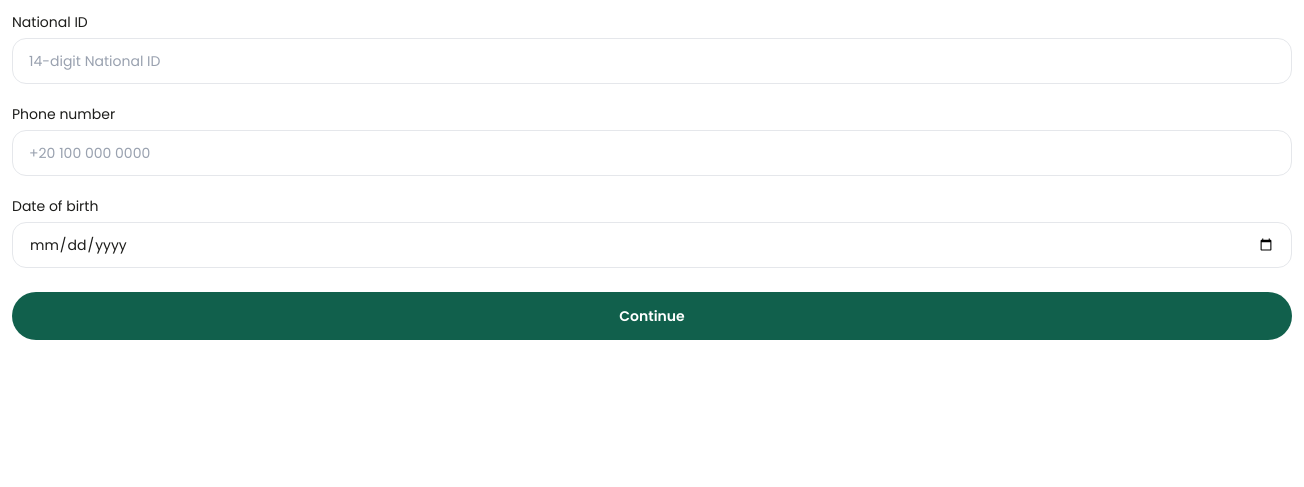
Test case: PatientForgotPasswordForm › shows an invalid-answer error on a 401 at step 2
Step 1. Type "12345678901234" into the field labelled "National ID" → (652, 61), box [12,38,1292,84]
Step 2. Type "01012345678" into the field labelled "Phone number" → (652, 153), box [12,130,1292,176]
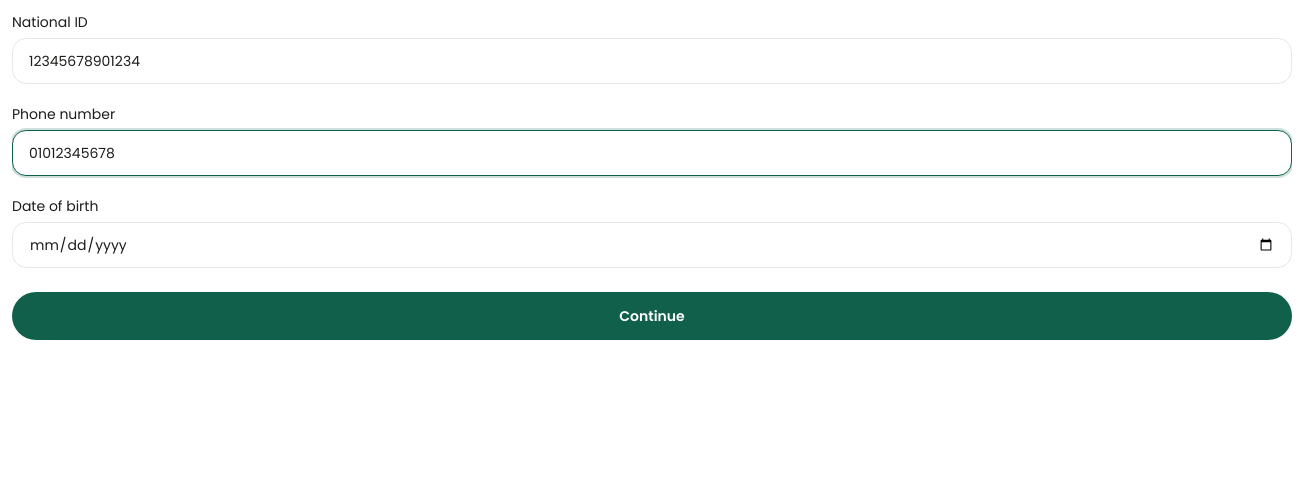
Step 3. Type "1990-01-01" into the date field labelled "Date of birth" → (652, 245), box [12,222,1292,268]
Step 4. Click the button "Continue" → (652, 316), box [12,292,1292,340]
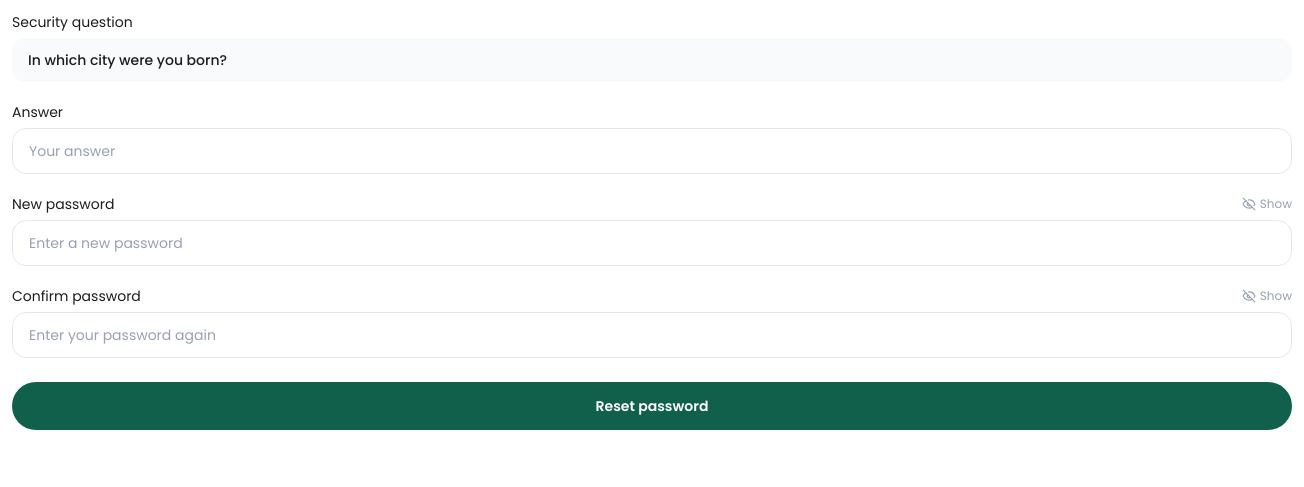
Check: the button "Reset password" is shown, box [12,382,1292,430]
Step 5. Type "Wrong" into the field labelled "Answer" → (652, 151), box [12,128,1292,174]
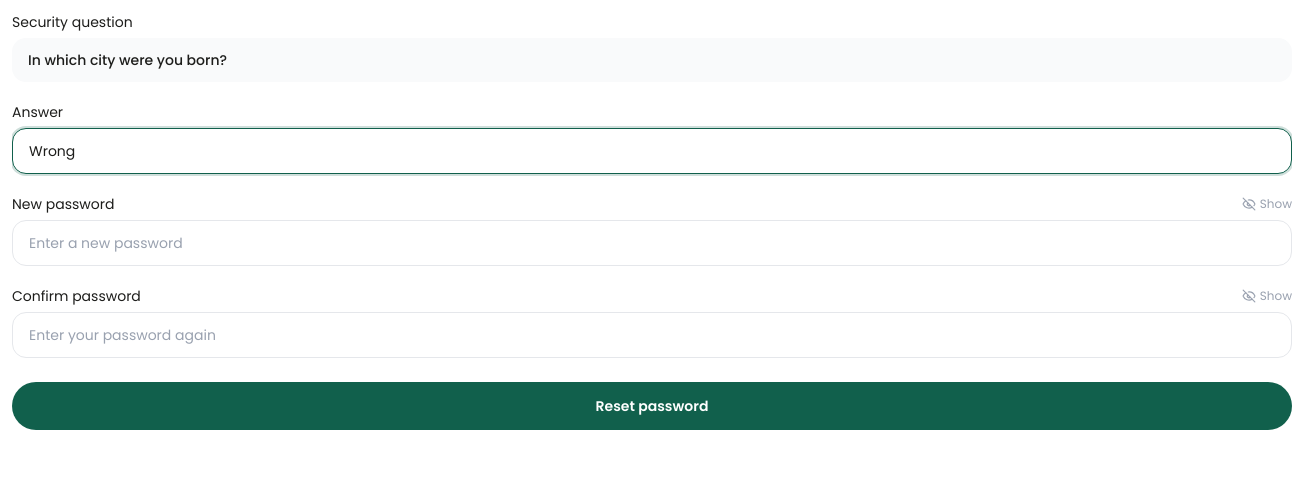
Step 6. Type "Abcdef1!" into the password field labelled "New password" → (652, 243), box [12,220,1292,266]
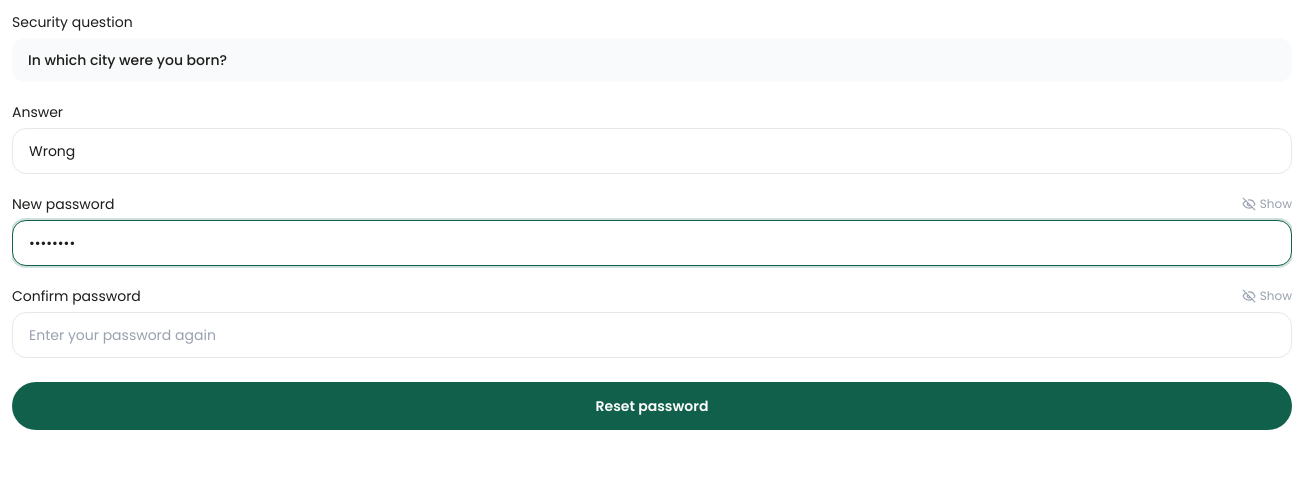
Step 7. Type "Abcdef1!" into the password field labelled "Confirm password" → (652, 335), box [12,312,1292,358]
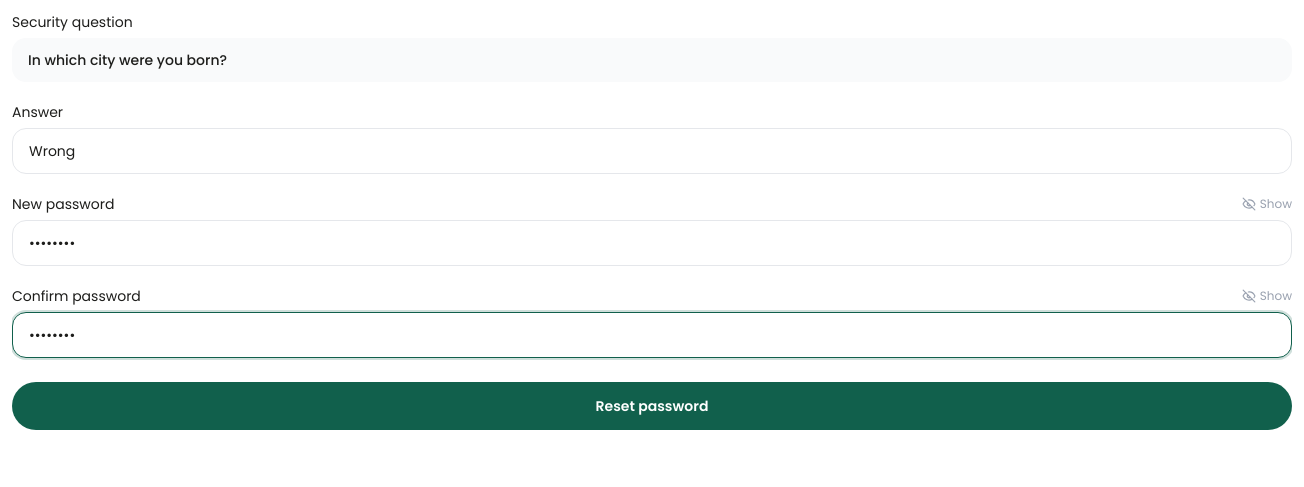
Step 8. Click the button "Reset password" → (652, 406), box [12,382,1292,430]
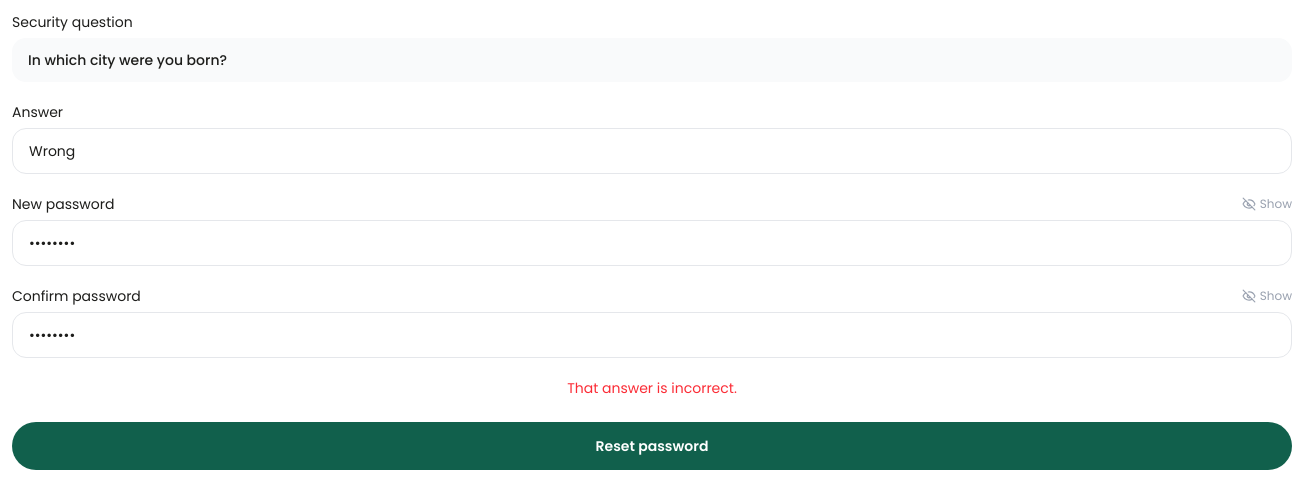
Check: the text "That answer is incorrect." is shown, box [567,378,737,398]
